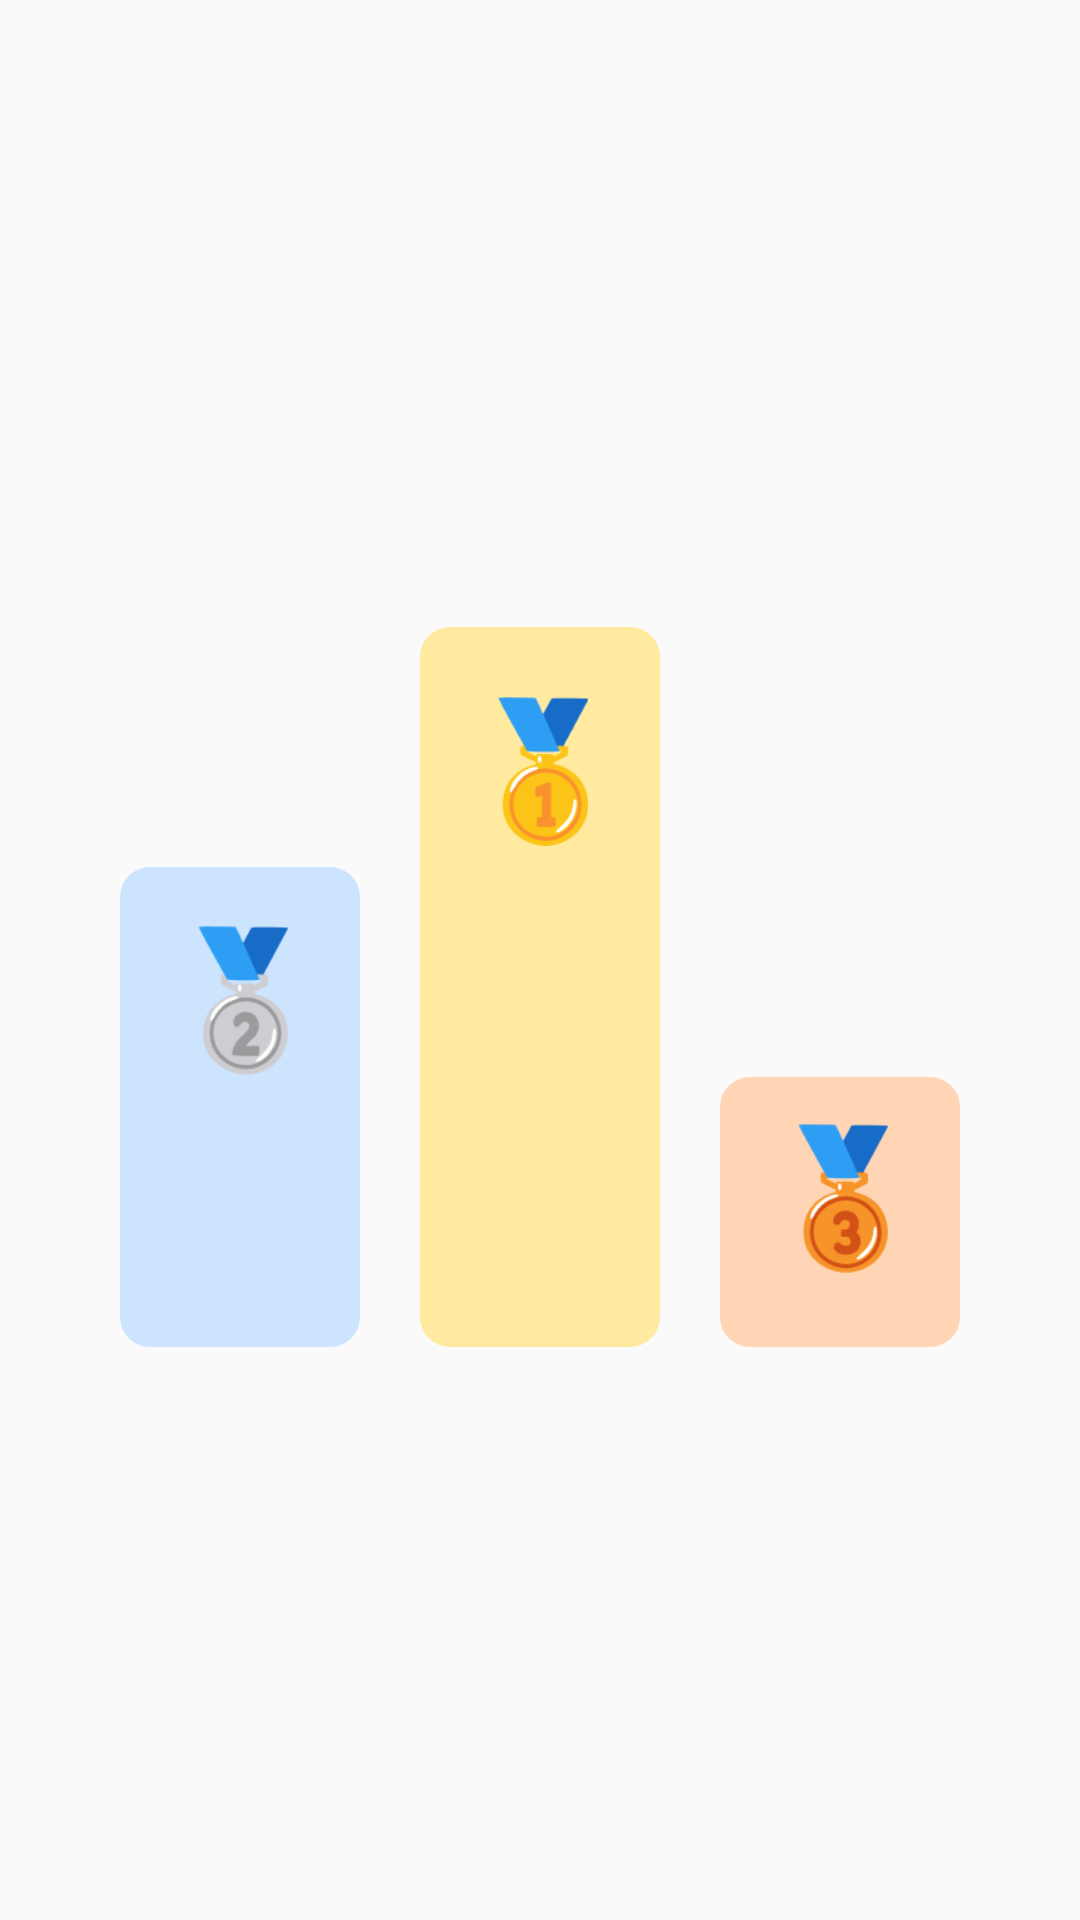

Named icons in this screenshot (1080px×1920px) and their centers, [x,y]:
medal: [543,771], [243,1000], [843,1198]
